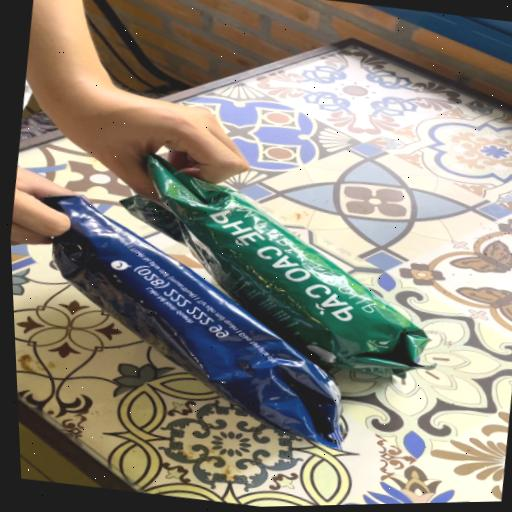cafe_hat: (44, 195, 343, 449)
cafe_xay: (124, 156, 432, 378)
